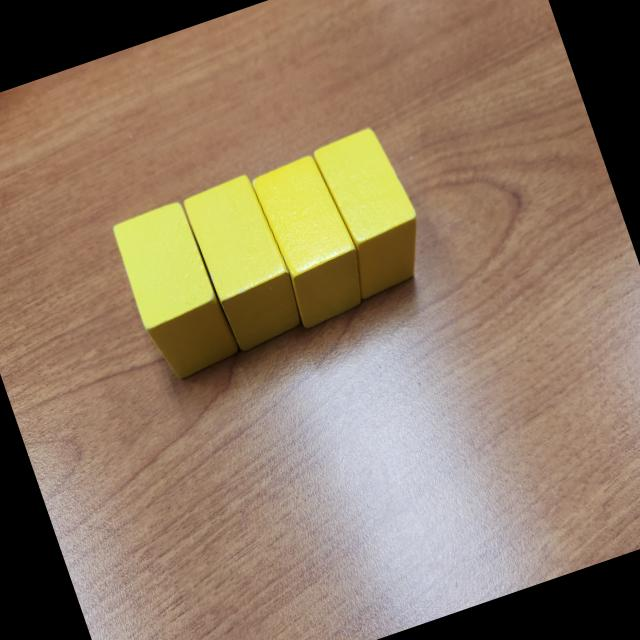yellow: (108, 197, 243, 386), (180, 167, 310, 354), (248, 150, 376, 333), (308, 122, 438, 302)
